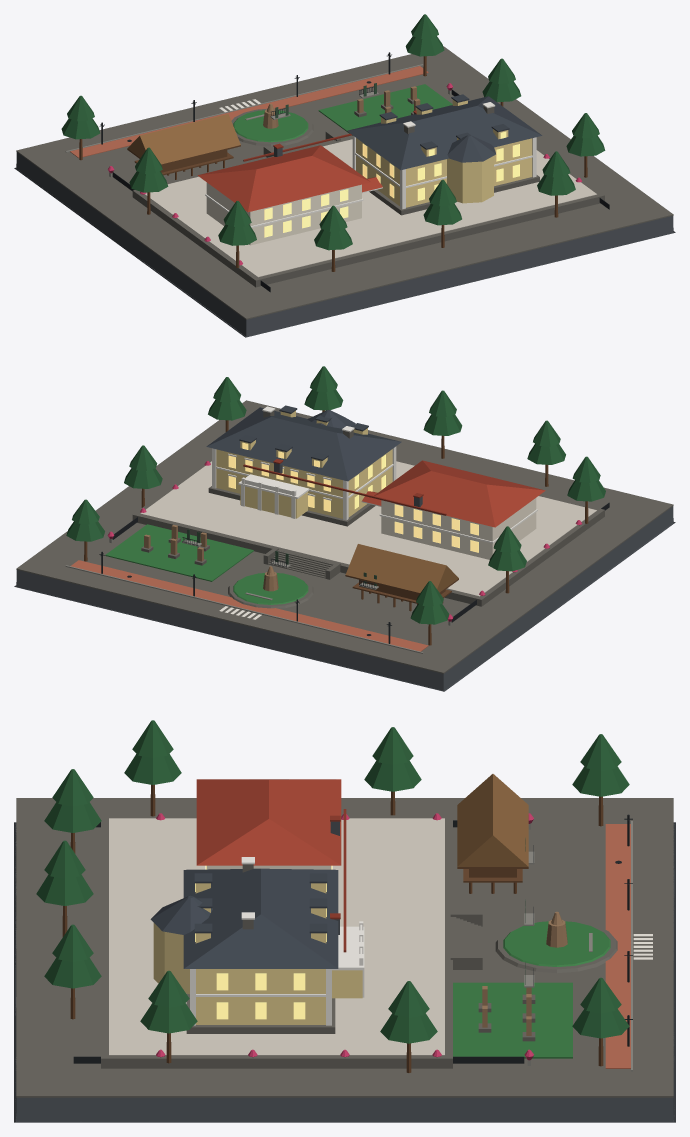
Rendered from lm_13_bao_tang_lam_dong.glb.
The picture shows the model from 3 angles, top to bottom: view 1: azimuth 30°, elevation 25°; view 2: azimuth 150°, elevation 25°; view 3: azimuth 270°, elevation 25°; orthographic projection. The views are drawn at different scales.
Parts seen in each view (by area): view 1: Foundation_Plinth_Trim, Foundation_Skirt, Museum_Hill_Esplanade_Pave, Museum_Pine_Grove_Canopies, Museum_Terrace_Retaining_Stone, NamPhuong_Palace_Mansard_Slate_Roof, LamDong_Museum_Exhibition_Hip_Roof, NamPhuong_Palace_1932_Walls, Museum_Park_Lawns, LamDong_Museum_Exhibition_Walls, KHo_Traditional_Stilt_House_Roof, Phase2_Interlocking_Brick_Sidewalk (+7 smaller); view 2: Foundation_Plinth_Trim, Museum_Hill_Esplanade_Pave, Foundation_Skirt, Museum_Pine_Grove_Canopies, NamPhuong_Palace_Mansard_Slate_Roof, Museum_Terrace_Retaining_Stone, LamDong_Museum_Exhibition_Hip_Roof, Museum_Park_Lawns, NamPhuong_Palace_1932_Walls, LamDong_Museum_Exhibition_Walls, KHo_Traditional_Stilt_House_Roof, Phase2_Interlocking_Brick_Sidewalk (+8 smaller); view 3: Foundation_Plinth_Trim, Museum_Hill_Esplanade_Pave, Museum_Pine_Grove_Canopies, Foundation_Skirt, Museum_Terrace_Retaining_Stone, NamPhuong_Palace_Mansard_Slate_Roof, LamDong_Museum_Exhibition_Hip_Roof, Museum_Park_Lawns, NamPhuong_Palace_1932_Walls, KHo_Traditional_Stilt_House_Roof, Phase2_Interlocking_Brick_Sidewalk, NamPhuong_Palace_Slate_Features (+7 smaller).
Boxes of the visible parts, x1,y1,x2,y2 form: Foundation_Plinth_Trim: [16, 46, 673, 319]; Foundation_Skirt: [14, 152, 675, 337]; Museum_Hill_Esplanade_Pave: [144, 139, 596, 277]; Museum_Pine_Grove_Canopies: [61, 14, 605, 250]; Museum_Terrace_Retaining_Stone: [132, 98, 604, 287]; NamPhuong_Palace_Mansard_Slate_Roof: [347, 96, 542, 170]; LamDong_Museum_Exhibition_Hip_Roof: [197, 145, 370, 212]; NamPhuong_Palace_1932_Walls: [356, 99, 532, 207]; Museum_Park_Lawns: [233, 84, 452, 142]; LamDong_Museum_Exhibition_Walls: [206, 182, 361, 245]; KHo_Traditional_Stilt_House_Roof: [127, 114, 240, 164]; Phase2_Interlocking_Brick_Sidewalk: [70, 66, 428, 158]; Foundation_Plinth_Trim: [16, 400, 673, 673]; Museum_Hill_Esplanade_Pave: [140, 461, 596, 596]; Foundation_Skirt: [14, 506, 675, 691]; Museum_Pine_Grove_Canopies: [66, 366, 605, 624]; NamPhuong_Palace_Mansard_Slate_Roof: [206, 407, 401, 481]; Museum_Terrace_Retaining_Stone: [132, 410, 604, 608]; LamDong_Museum_Exhibition_Hip_Roof: [374, 460, 545, 527]; Museum_Park_Lawns: [105, 524, 308, 604]; NamPhuong_Palace_1932_Walls: [216, 410, 392, 518]; LamDong_Museum_Exhibition_Walls: [381, 498, 536, 559]; KHo_Traditional_Stilt_House_Roof: [345, 544, 458, 592]; Phase2_Interlocking_Brick_Sidewalk: [70, 560, 428, 651]; Foundation_Plinth_Trim: [16, 798, 673, 1097]; Museum_Hill_Esplanade_Pave: [109, 818, 444, 1055]; Museum_Pine_Grove_Canopies: [36, 720, 629, 1043]; Foundation_Skirt: [14, 822, 675, 1122]; Museum_Terrace_Retaining_Stone: [101, 815, 617, 1068]; NamPhuong_Palace_Mansard_Slate_Roof: [183, 868, 338, 968]; LamDong_Museum_Exhibition_Hip_Roof: [196, 779, 341, 865]; Museum_Park_Lawns: [453, 921, 610, 1058]; NamPhuong_Palace_1932_Walls: [153, 883, 362, 1024]; KHo_Traditional_Stilt_House_Roof: [457, 774, 528, 866]; Phase2_Interlocking_Brick_Sidewalk: [605, 824, 630, 1068]; NamPhuong_Palace_Slate_Features: [150, 873, 327, 934].
Bounding box in the file's own units: 88.8 × 18.5 × 82.75.
